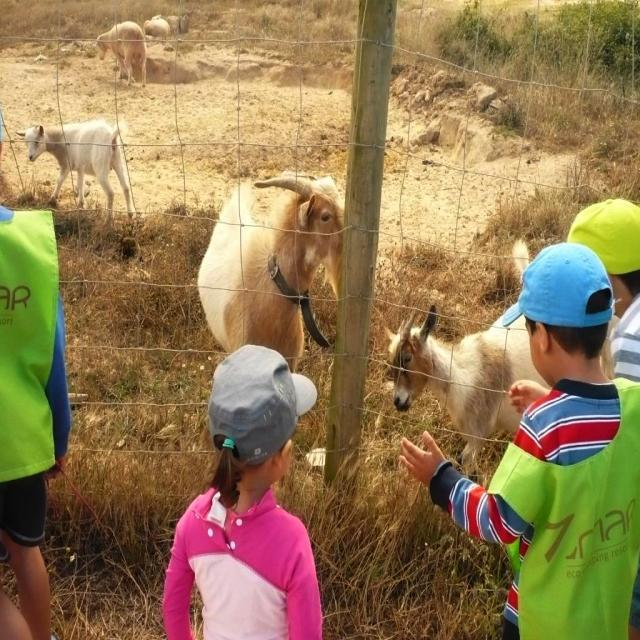Goat: (383, 302, 616, 476), (197, 171, 345, 373), (16, 117, 135, 220), (95, 20, 147, 88)
